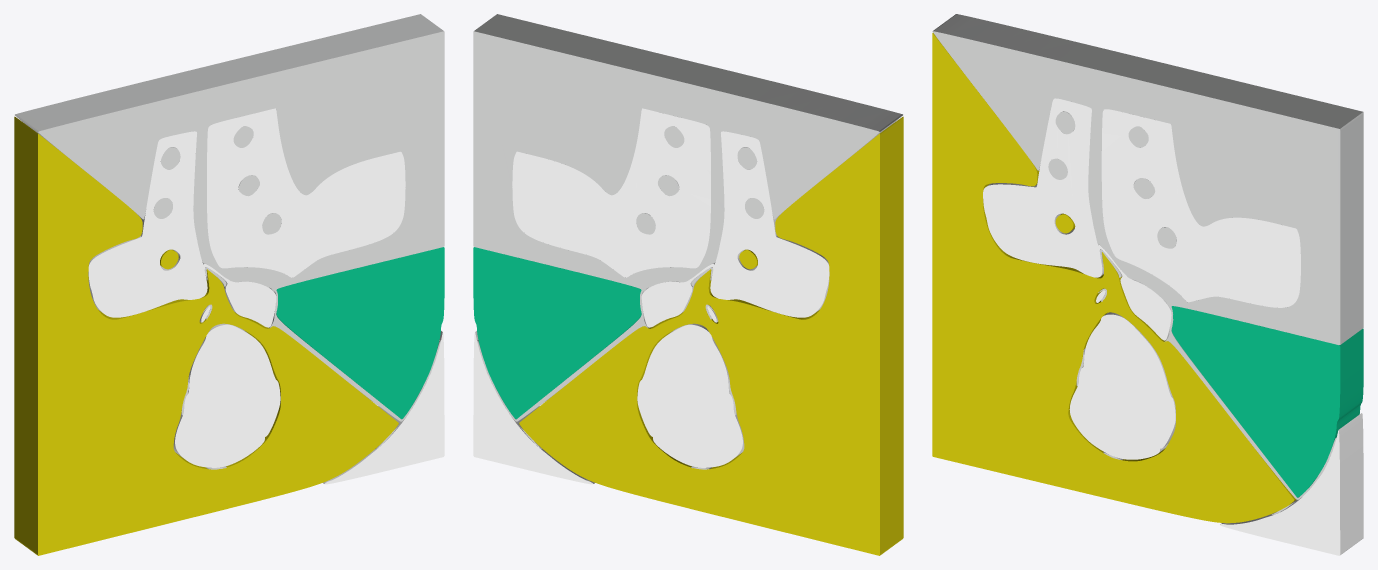
File: Guerrero3D.fbx
The picture shows the model from 3 angles, left to right: view 1: azimuth 30°, elevation 25°; view 2: azimuth 150°, elevation 25°; view 3: azimuth 330°, elevation 25°; orthographic projection.
Visible parts, largest first — view 1: imagetostl_mesh0, imagetostl_mesh8, imagetostl_mesh2, imagetostl_mesh19, imagetostl_mesh3, imagetostl_mesh4, imagetostl_mesh5; view 2: imagetostl_mesh0, imagetostl_mesh8, imagetostl_mesh2, imagetostl_mesh19, imagetostl_mesh3, imagetostl_mesh4, imagetostl_mesh5; view 3: imagetostl_mesh0, imagetostl_mesh8, imagetostl_mesh2, imagetostl_mesh19, imagetostl_mesh3, imagetostl_mesh4, imagetostl_mesh5.
Part boxes in pixels (x1,y1,x2,y2): imagetostl_mesh0: [14, 116, 398, 555]; imagetostl_mesh8: [15, 14, 444, 421]; imagetostl_mesh2: [207, 108, 405, 277]; imagetostl_mesh19: [276, 247, 444, 419]; imagetostl_mesh3: [88, 131, 276, 327]; imagetostl_mesh4: [173, 323, 280, 467]; imagetostl_mesh5: [323, 331, 444, 484]; imagetostl_mesh0: [519, 116, 903, 555]; imagetostl_mesh8: [473, 14, 902, 421]; imagetostl_mesh2: [512, 108, 710, 277]; imagetostl_mesh19: [473, 247, 641, 419]; imagetostl_mesh3: [641, 131, 829, 327]; imagetostl_mesh4: [637, 323, 744, 467]; imagetostl_mesh5: [473, 331, 594, 484]; imagetostl_mesh0: [932, 33, 1296, 523]; imagetostl_mesh8: [932, 14, 1363, 499]; imagetostl_mesh2: [1101, 109, 1300, 307]; imagetostl_mesh19: [1171, 306, 1363, 497]; imagetostl_mesh3: [983, 98, 1171, 340]; imagetostl_mesh4: [1069, 312, 1175, 459]; imagetostl_mesh5: [1220, 413, 1363, 555].
Bounding box in the file's own units: 10000 × 10002 × 1000.
